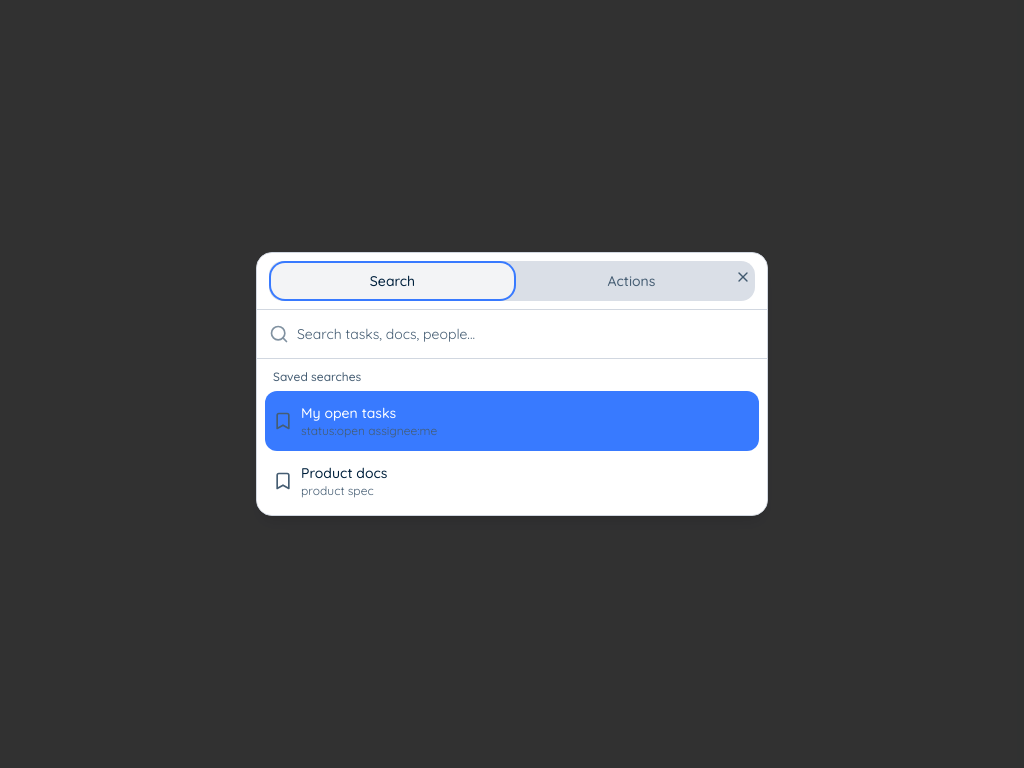
Command palette › groups suggestions by result type
Type "login" into the dropdown labelled "Search" at (526, 334), box [297, 310, 755, 358]
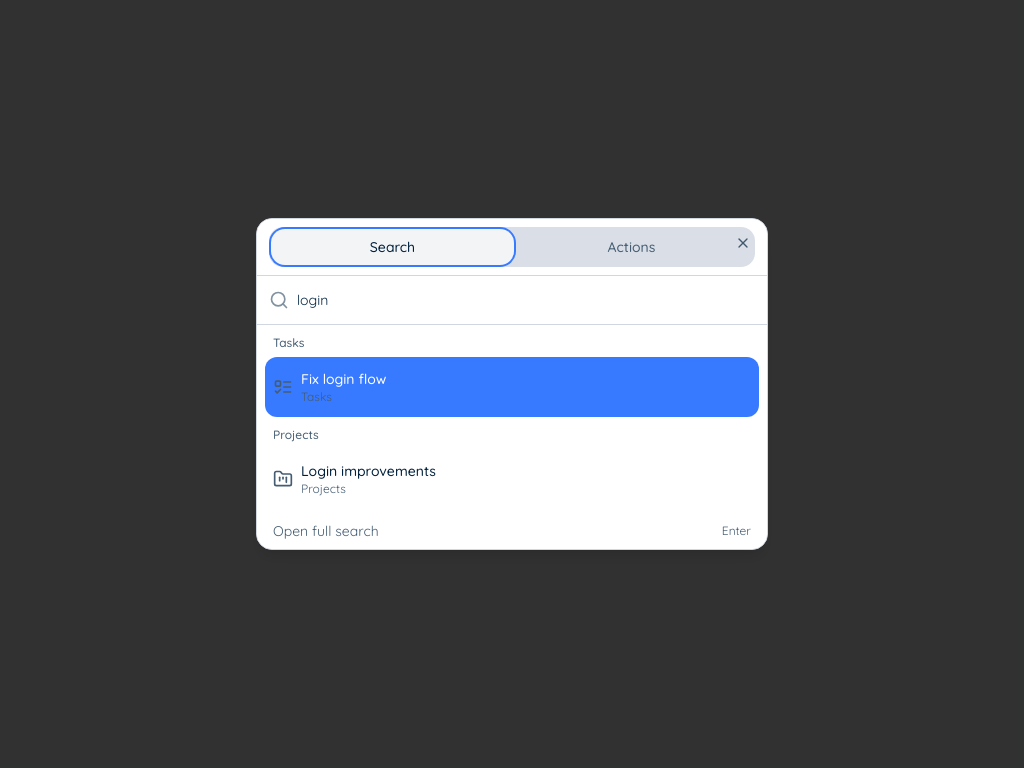
Expected: the element "Fix login flow Tasks" is shown, [265, 357, 759, 417]
Expected: the element "Login improvements Projects" is shown, [273, 462, 436, 496]
